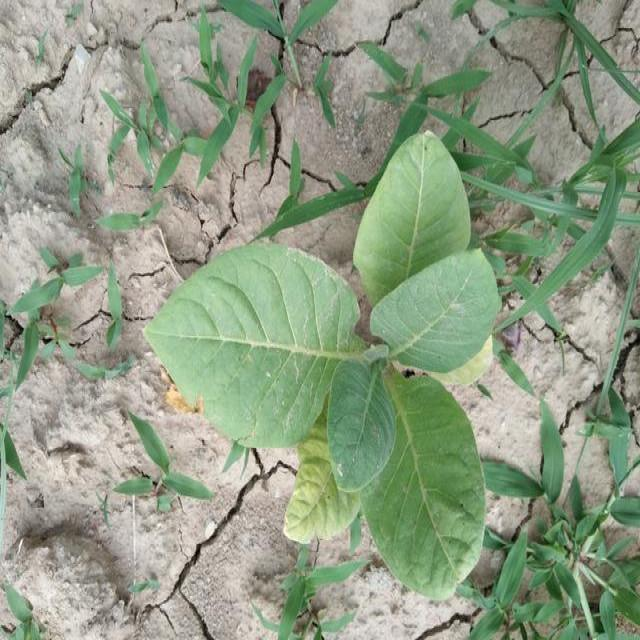tobacco: (146, 131, 499, 597)
